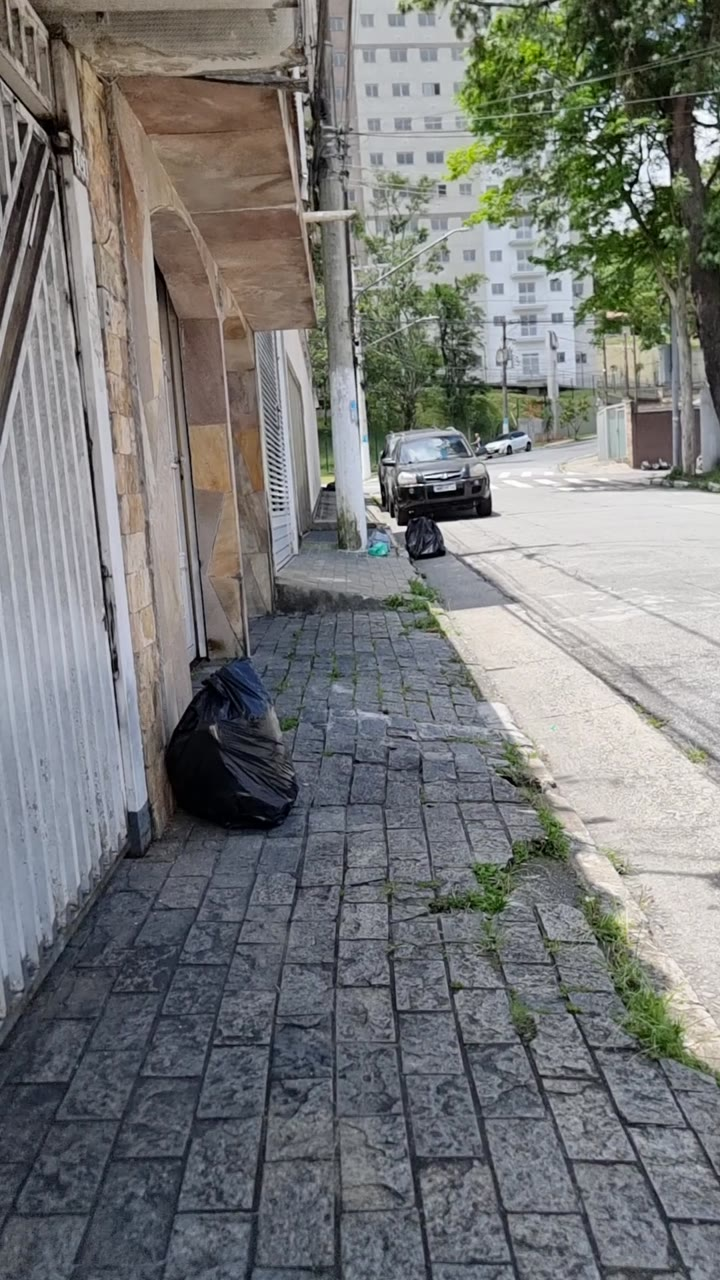obstaculo: (317, 0, 360, 525), (165, 659, 297, 828), (405, 516, 445, 559)
